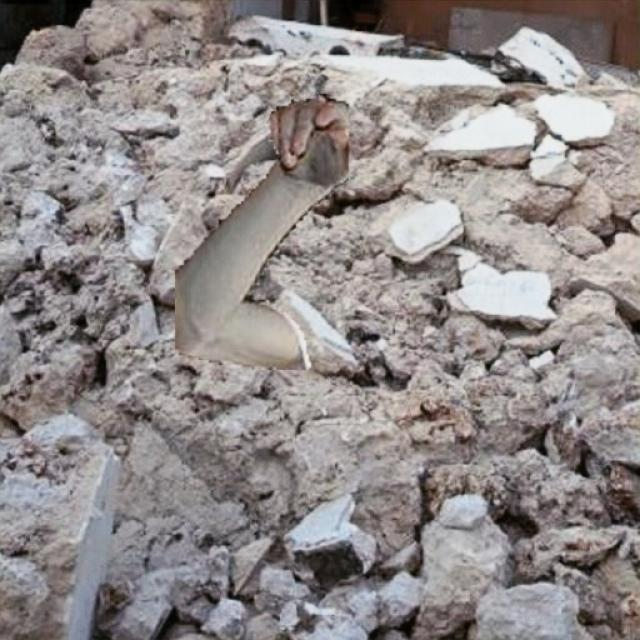Person in Rubble: (175, 94, 348, 368)
